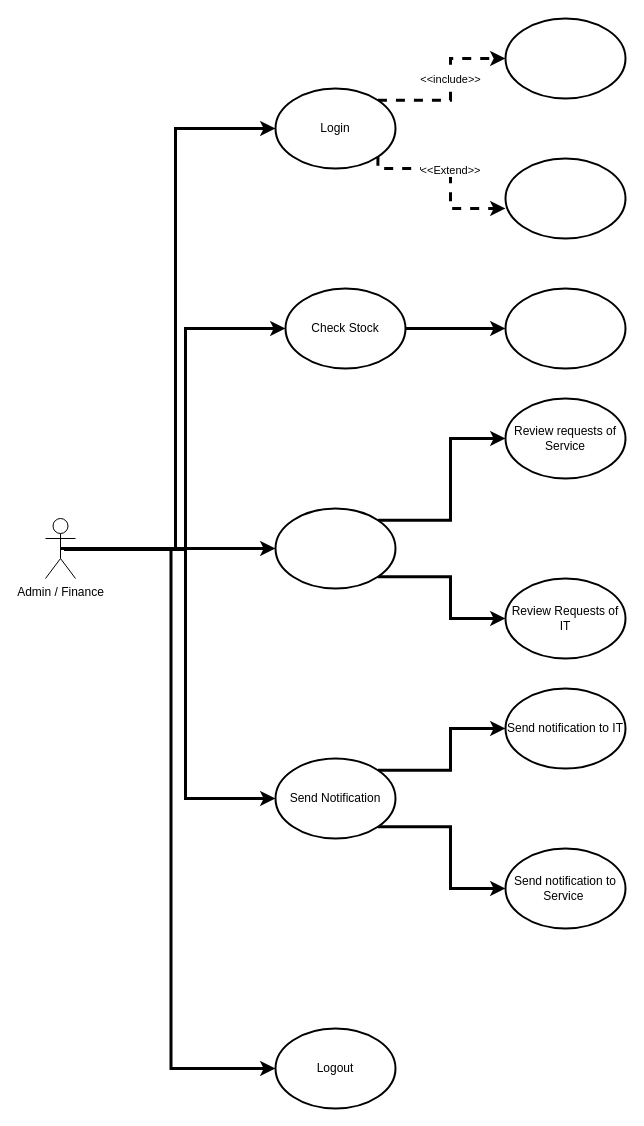
This 644x1126 diagram has some shape labels left out. Here are the shapes that lost their labels. From the top down, the centre of each, then its label:
(565,58): Verify Password
(565,198): Display Login Error
(565,328): Check Stock Condition
(335,548): Review Requests
